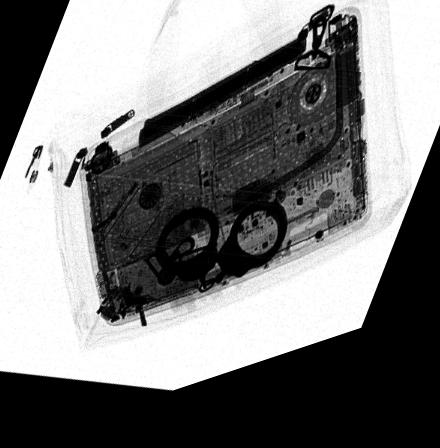HandCuffs: (152, 210, 289, 309)
